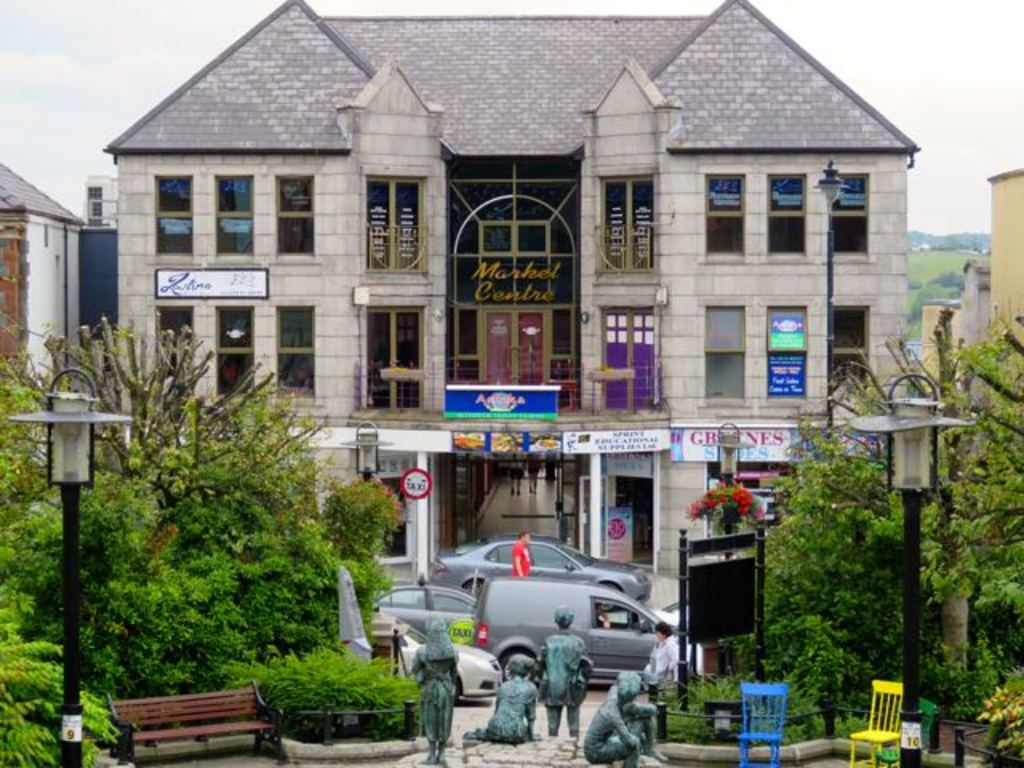cars: (425, 529, 656, 598), (368, 617, 500, 700), (374, 584, 479, 644)
